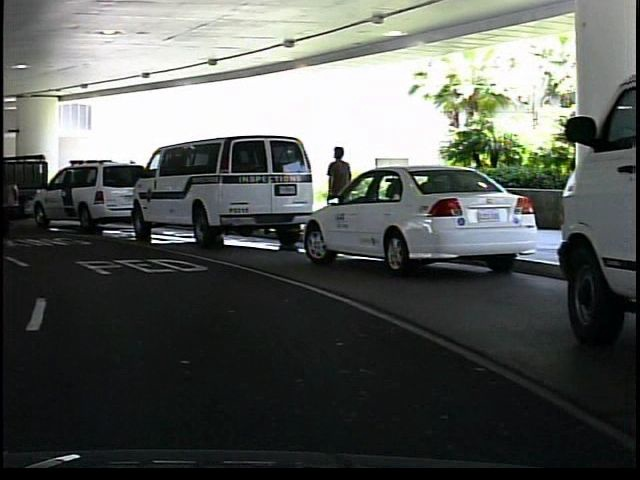person: (320, 142, 355, 235)
